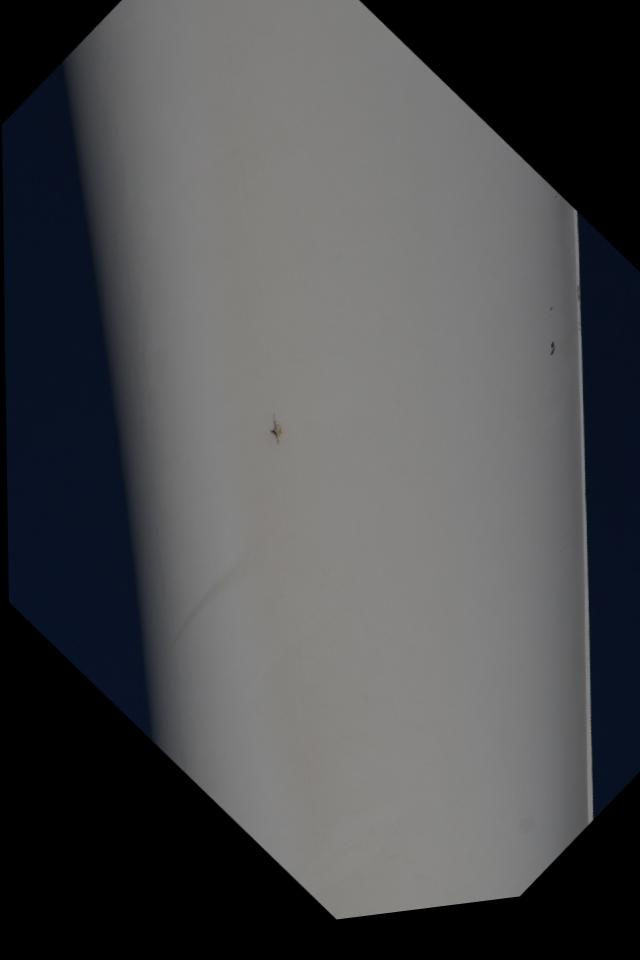damage: (253, 414, 294, 460)
